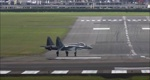maybay_muctieu: (43, 36, 92, 56)
